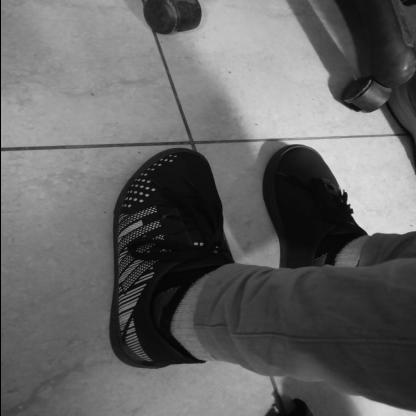ankle: (146, 301, 152, 305), (314, 243, 318, 247)
heel: (142, 363, 146, 367), (286, 266, 290, 268)
left_foot: (109, 149, 231, 369)
pinky: (327, 173, 331, 176), (137, 183, 141, 185)
right_foot: (263, 145, 367, 273)
toe: (283, 160, 288, 163), (205, 170, 209, 172)
